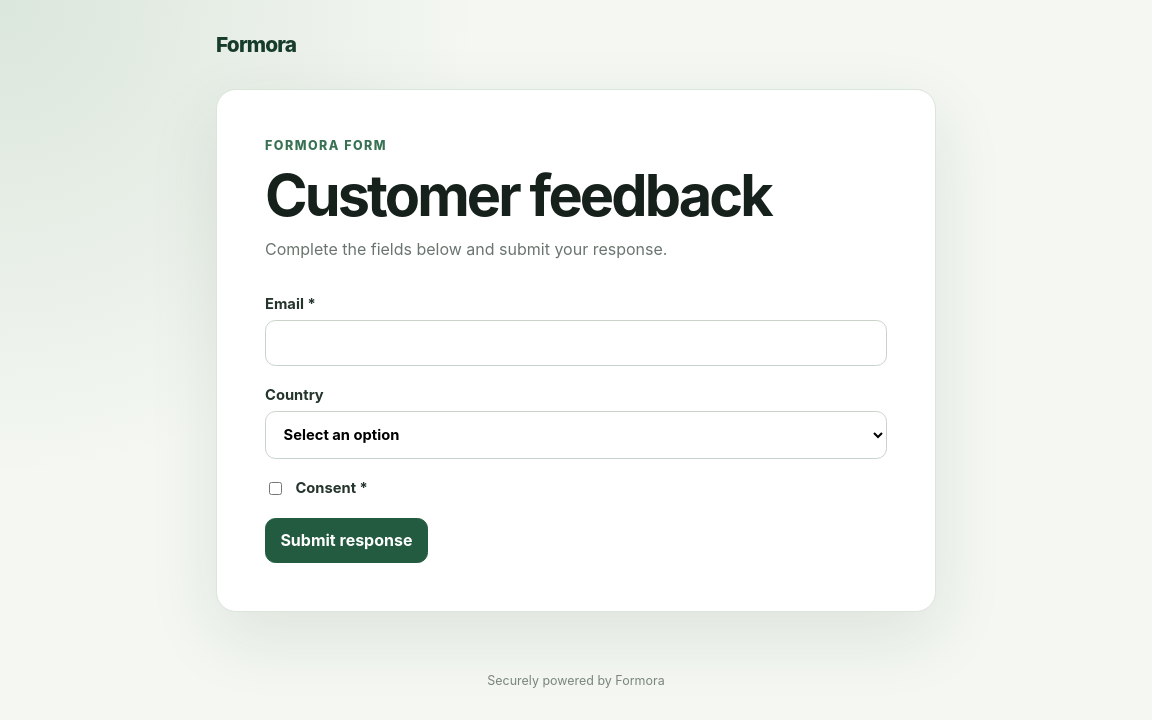
application routes › renders and submits a public link-access form without authentication
This screenshot has width=1152, height=720.
Type "guest@example.com" into the field labelled "Email *".
click(576, 343); type("guest@example.com")  # box [265, 320, 887, 366]
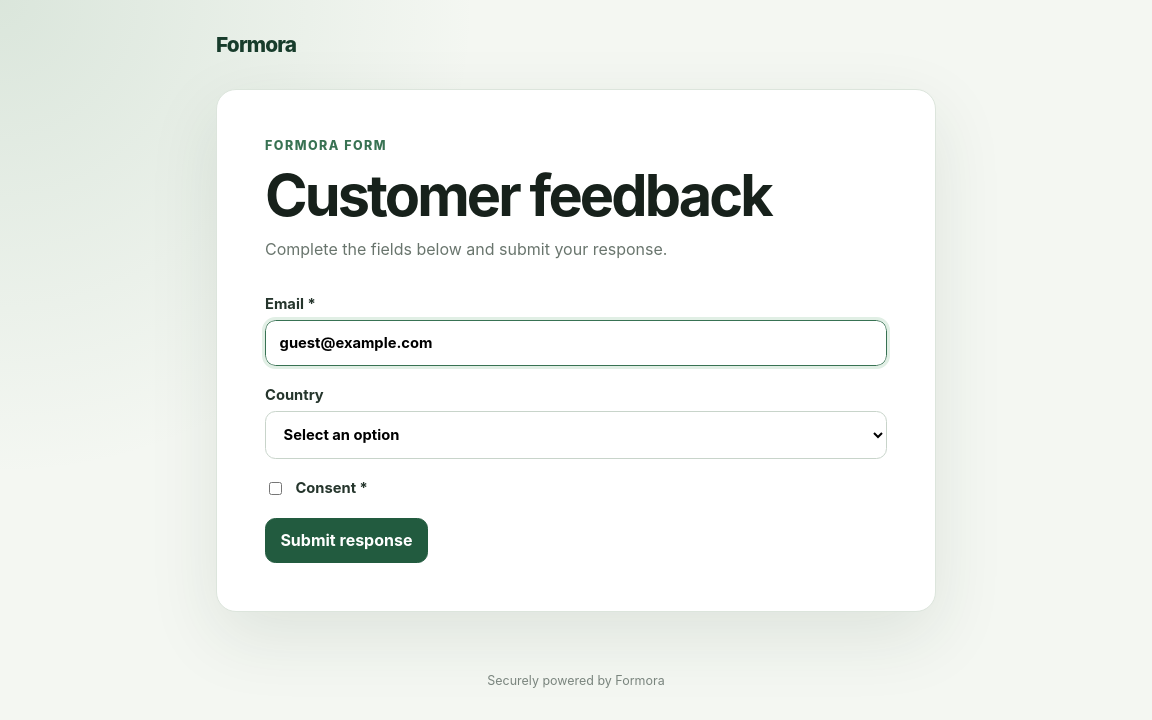
Select "Pakistan" in the dropdown labelled "Country" at {"x": 576, "y": 435}, box [265, 411, 887, 459]
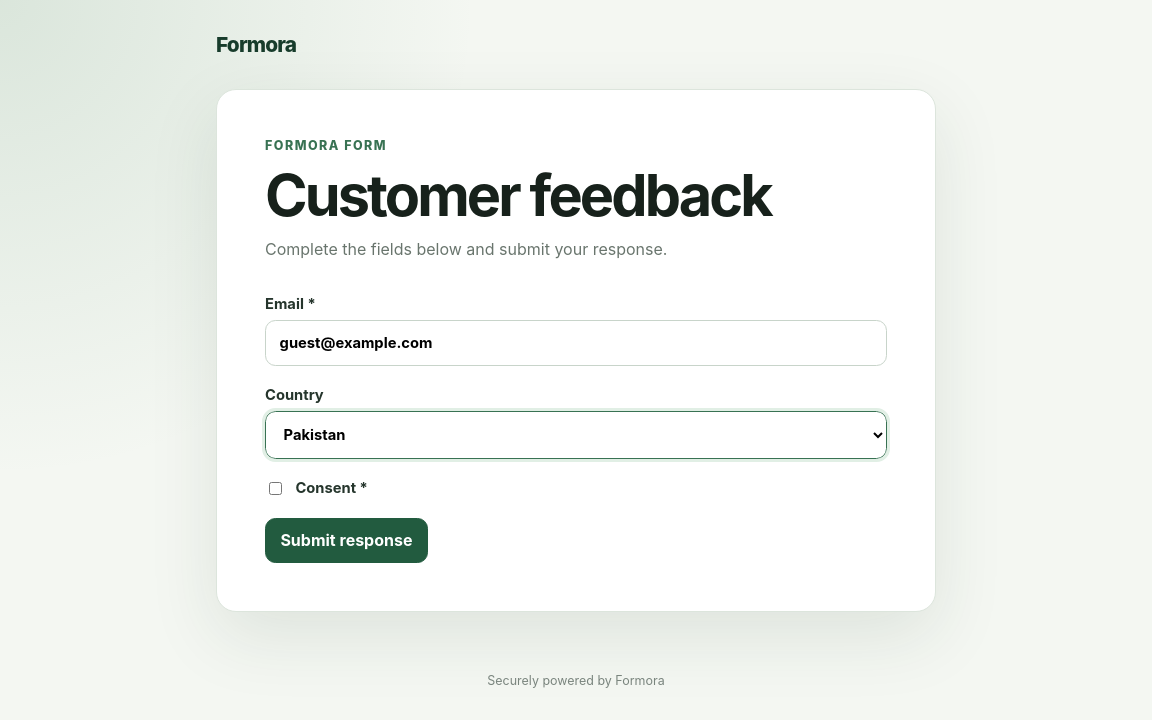
Click the checkbox labelled "Consent *".
click(276, 488)  # box [269, 482, 282, 495]
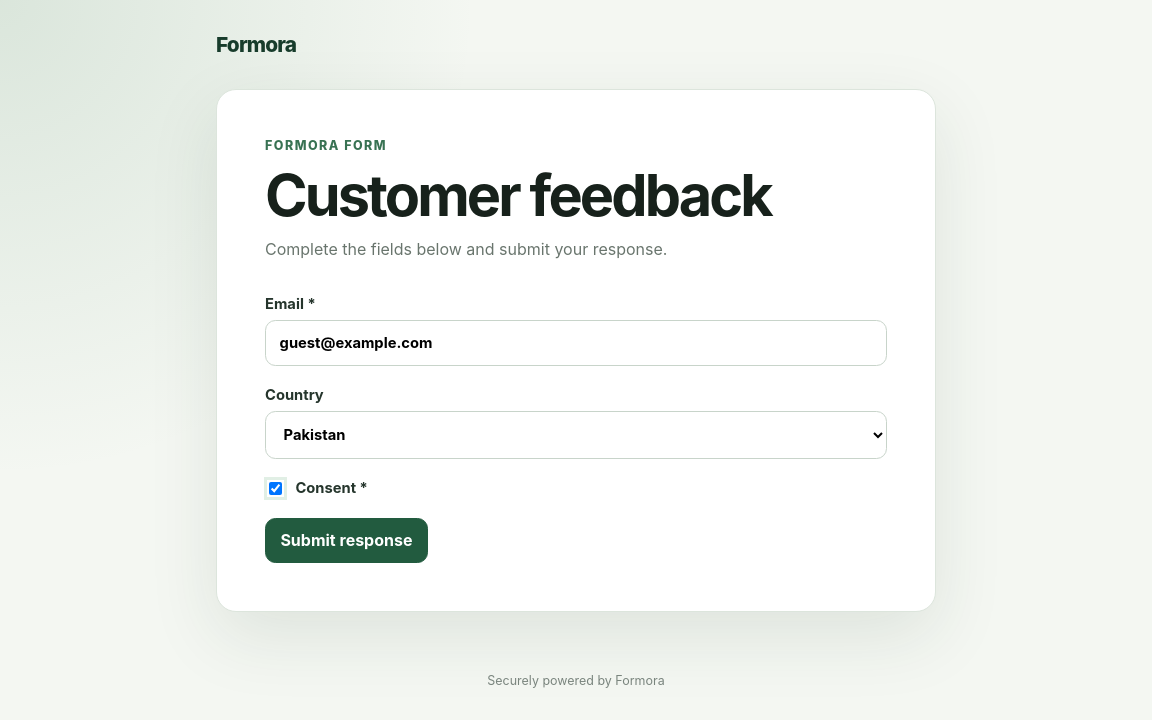
Click the button "Submit response".
click(346, 540)  # box [265, 518, 428, 563]
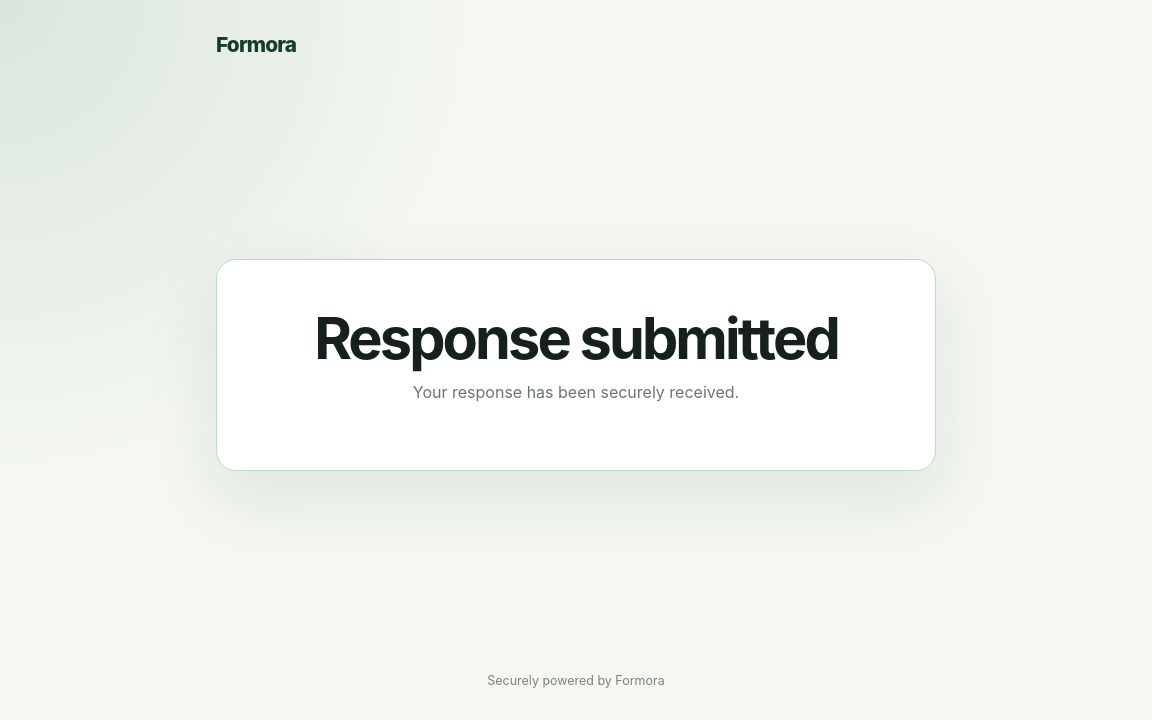
expect the heading "Response submitted" is shown: met, box [314, 303, 838, 373]
